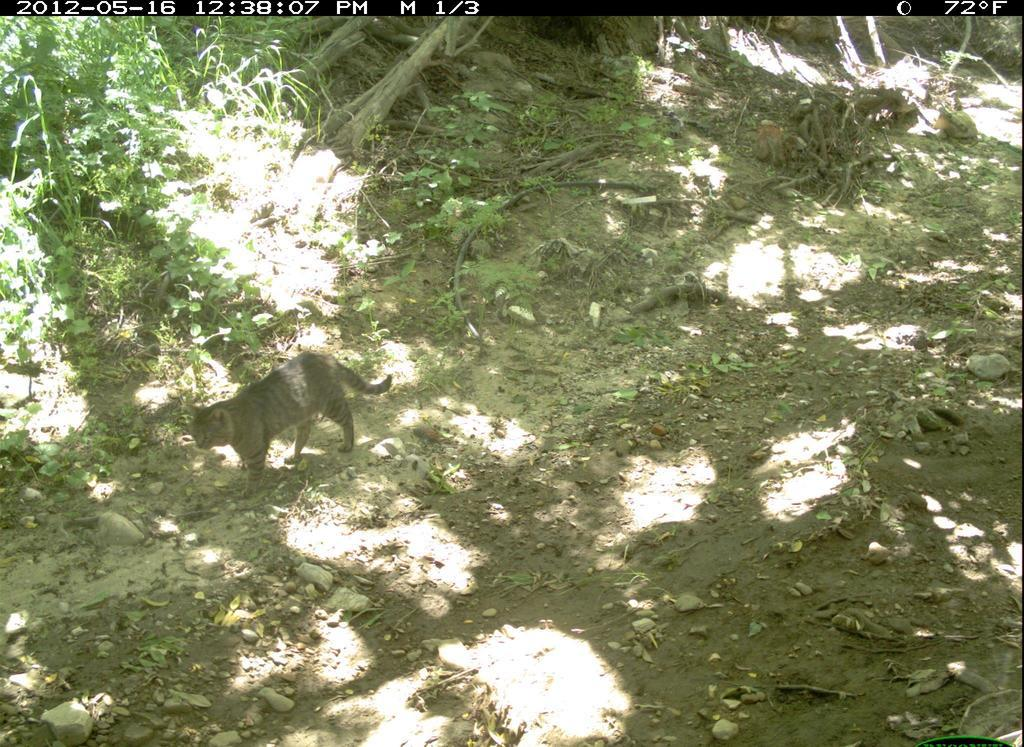cat: (163, 345, 414, 510)
